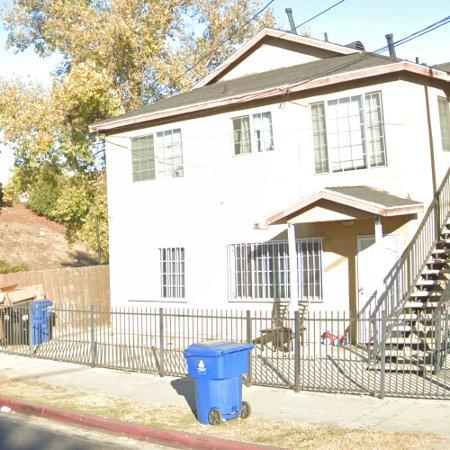stairs: (369, 175, 450, 377)
